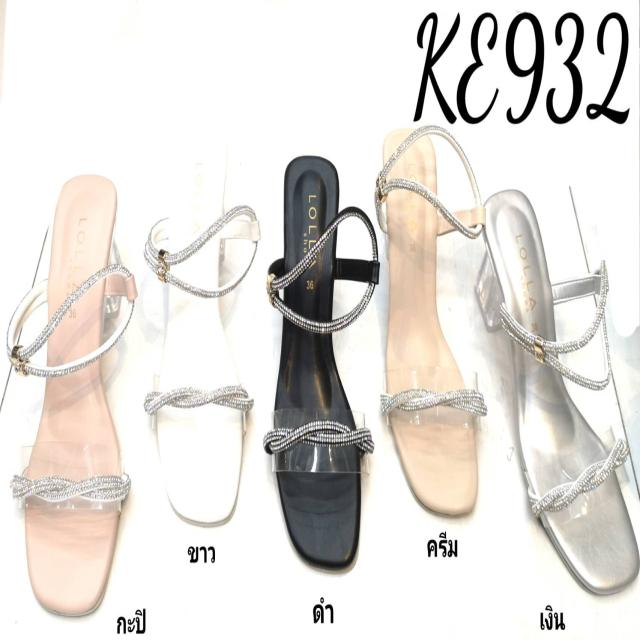black: (281, 155, 360, 568)
cream: (385, 124, 478, 519)
kapi: (27, 176, 123, 610)
silver: (481, 187, 640, 596)
white: (154, 130, 244, 530)
